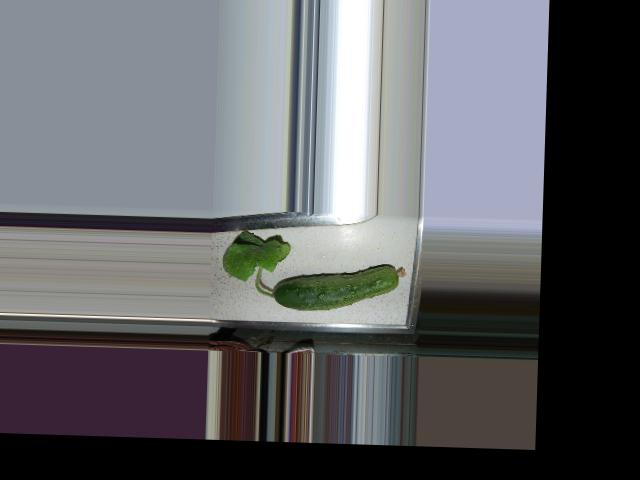cucumber: (271, 261, 406, 313)
